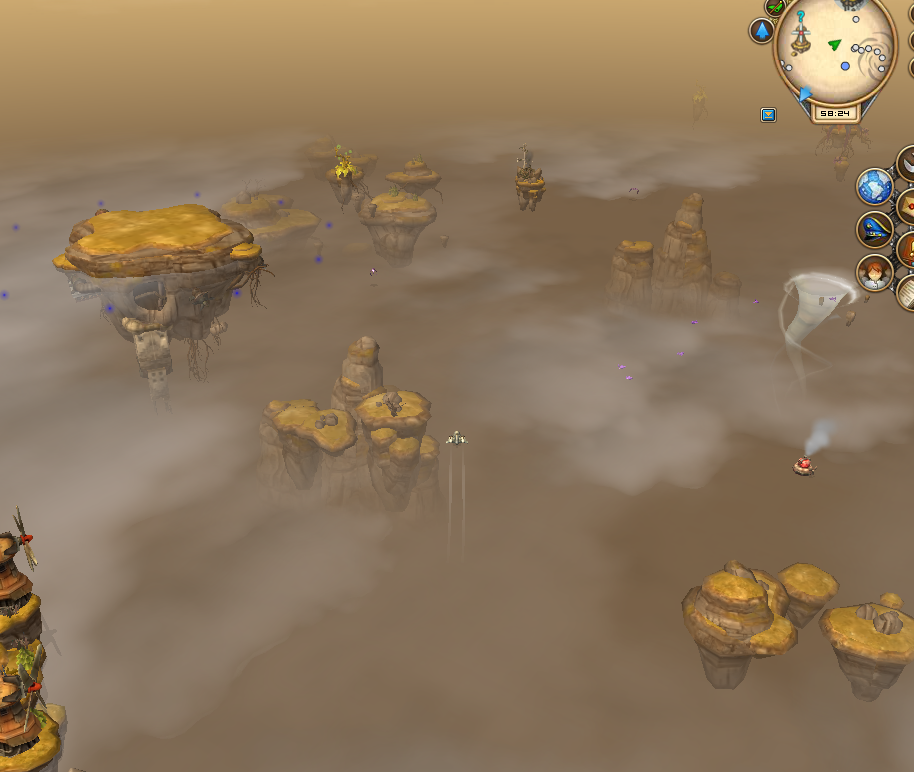dandelion-full: (330, 136, 358, 187)
